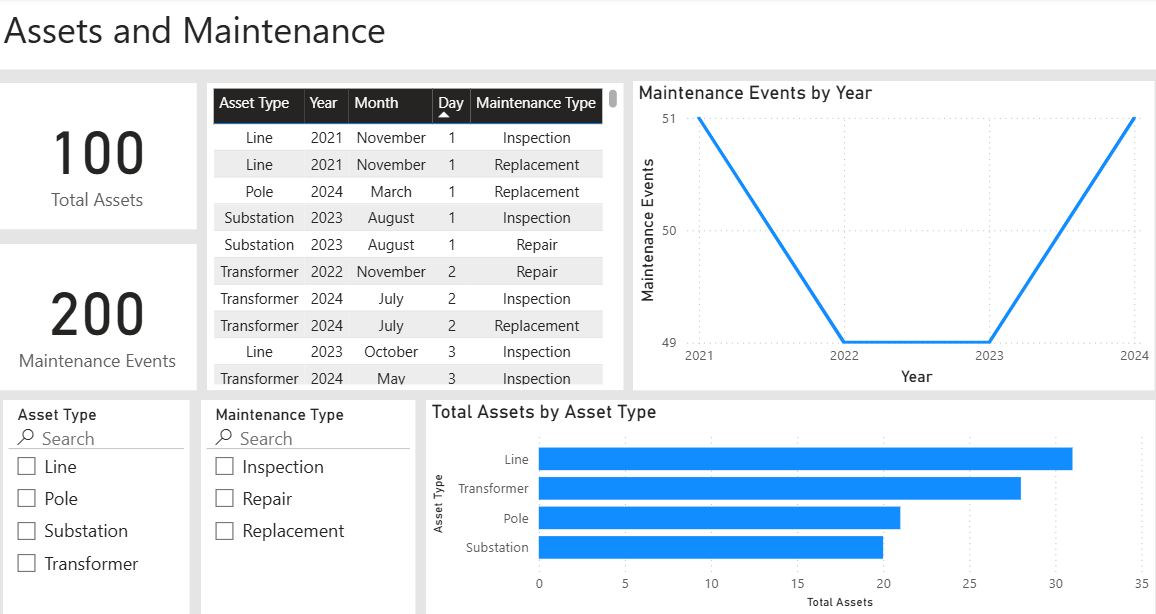

What the dashboard file says about the page in this screenshot:
{"tool":"powerbi","page":{"name":"Assets and Maintenance","canvas":[1280,720],"ordinal":3},"visuals":[{"type":"textbox","box":[0,0,1280,64.2],"z":0},{"type":"card","fields":{"Values":["Measures (2).Total Assets"]},"box":[0,76.2,177.5,131.2],"z":1000},{"type":"card","fields":{"Values":["Measures (2).Maintenance Events"]},"box":[0,220,177.5,131.2],"z":2000},{"type":"lineChart","fields":{"Category":["maintenance_logs.maintenance_date.Variation.Date Hierarchy.Year","maintenance_logs.maintenance_date.Variation.Date Hierarchy.Quarter","maintenance_logs.maintenance_date.Variation.Date Hierarchy.Month","maintenance_logs.maintenance_date.Variation.Date Hierarchy.Day"],"Y":["Measures (2).Maintenance Events"]},"box":[569,73.9,466.9,277.2],"z":3000},{"type":"tableEx","fields":{"Values":["infrastructure_assets.asset_type","infrastructure_assets.install_date.Variation.Date Hierarchy.Year","infrastructure_assets.install_date.Variation.Date Hierarchy.Month","infrastructure_assets.install_date.Variation.Date Hierarchy.Day","maintenance_logs.maintenance_type"]},"box":[186.7,75.9,372.5,275.3],"z":4000},{"type":"barChart","fields":{"Category":["infrastructure_assets.asset_type"],"Y":["Measures (2).Total Assets"]},"box":[383.2,359.9,652.6,191.6],"z":5000},{"type":"slicer","fields":{"Values":["infrastructure_assets.asset_type"]},"box":[4.9,359.9,167.3,191.6],"z":6000},{"type":"slicer","fields":{"Values":["maintenance_logs.maintenance_type"]},"box":[181.9,359.9,191.6,191.6],"z":7000}]}

Visuals, with their boxes on the page's 1280x720 design canvas (x1, y1, x2, y2). These are canvas units, not pixel positions in the 1156x614 screenshot, which may show the page scaled, cropped or inside an application window:
textbox: l=0, t=0, r=1280, b=64
card - Measures (2).Total Assets: l=0, t=76, r=178, b=207
card - Measures (2).Maintenance Events: l=0, t=220, r=178, b=351
lineChart - maintenance_logs.maintenance_date.Variation.Date Hierarchy.Year x maintenance_logs.maintenance_date.Variation.Date Hierarchy.Quarter: l=569, t=74, r=1036, b=351
tableEx - infrastructure_assets.asset_type x infrastructure_assets.install_date.Variation.Date Hierarchy.Year: l=187, t=76, r=559, b=351
barChart - infrastructure_assets.asset_type x Measures (2).Total Assets: l=383, t=360, r=1036, b=552
slicer - infrastructure_assets.asset_type: l=5, t=360, r=172, b=552
slicer - maintenance_logs.maintenance_type: l=182, t=360, r=374, b=552
